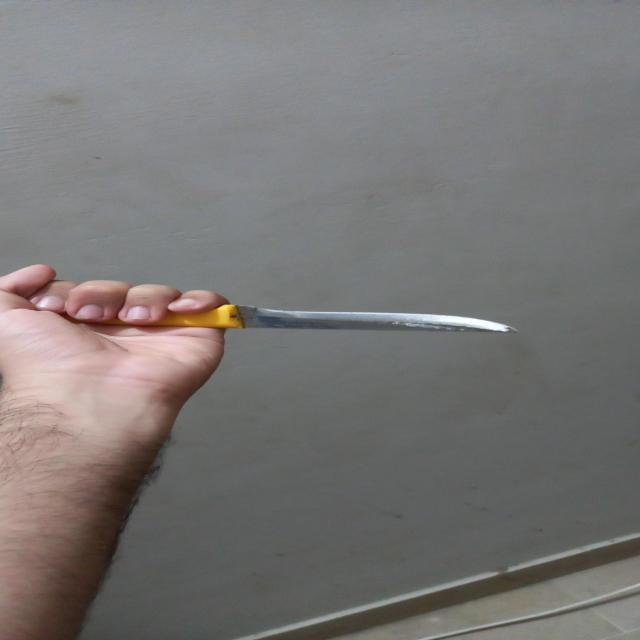faca: (84, 304, 518, 336)
